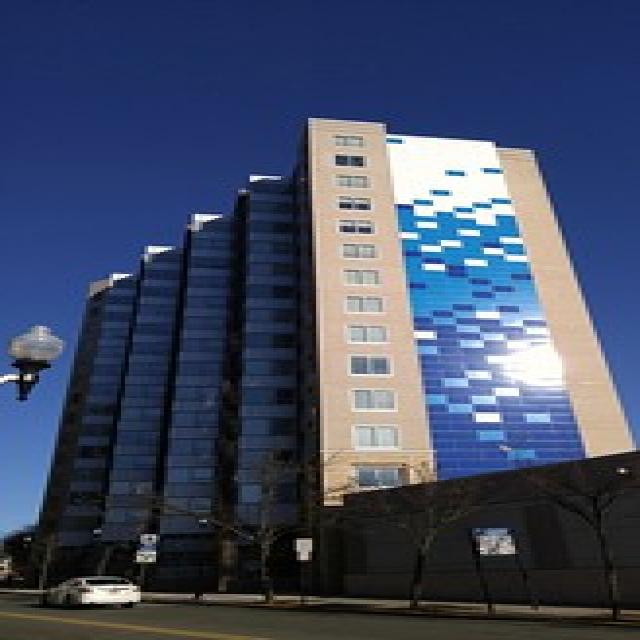Normal_building: (33, 113, 634, 611)
